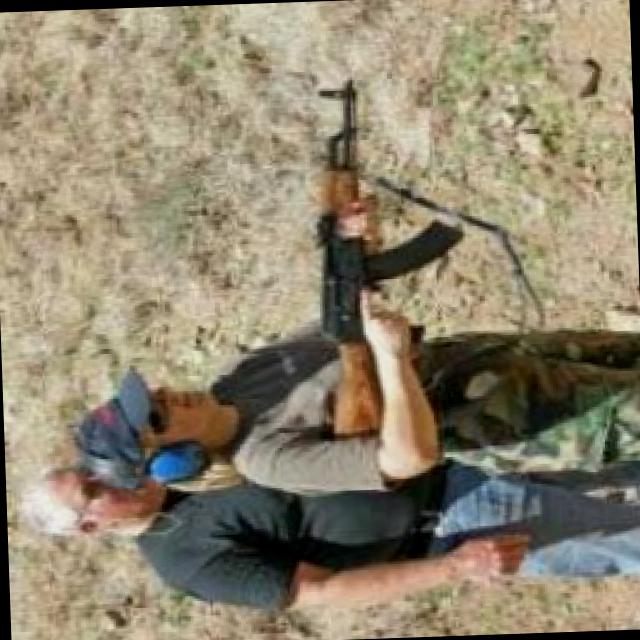long weapon: (282, 72, 462, 476)
